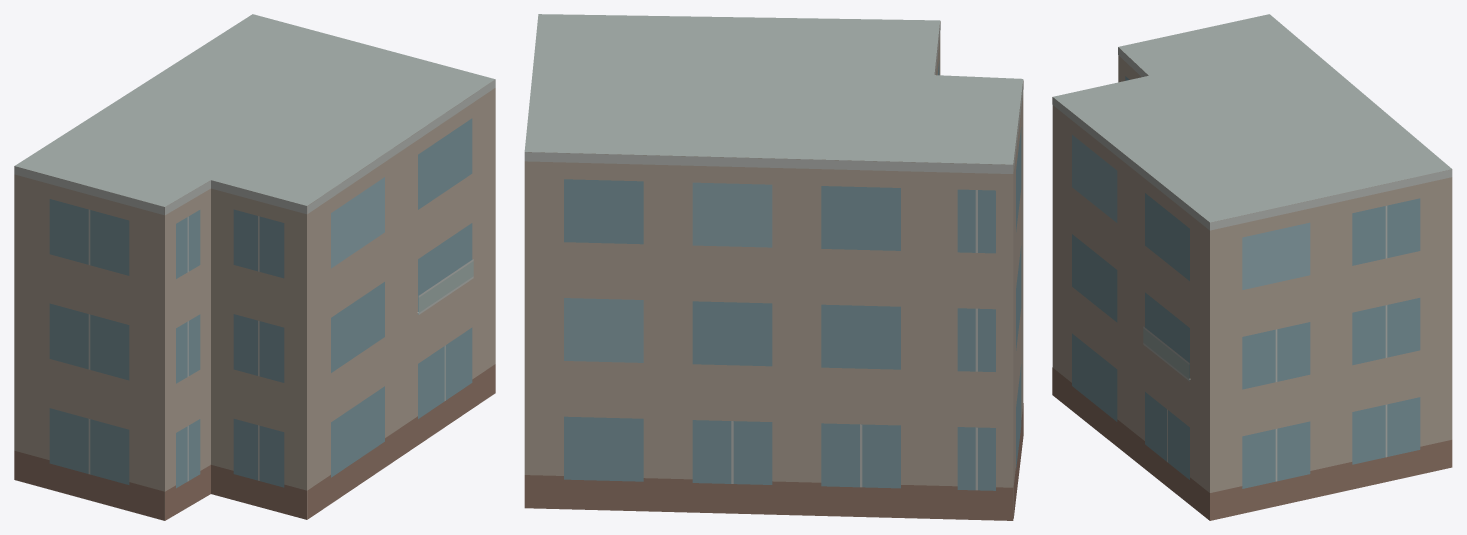
File: survey-upis-32691167.glb
The picture shows the model from 3 angles, left to right: view 1: azimuth 30°, elevation 25°; view 2: azimuth 150°, elevation 25°; view 3: azimuth 270°, elevation 25°; orthographic projection. The views are drawn at different scales.
Visible parts, largest first — view 1: survey-upis-32691167.tmp; view 2: survey-upis-32691167.tmp; view 3: survey-upis-32691167.tmp.
Part boxes in pixels (x1=…): survey-upis-32691167.tmp: x1=14, y1=14, x2=495, y2=520; survey-upis-32691167.tmp: x1=524, y1=14, x2=1023, y2=520; survey-upis-32691167.tmp: x1=1052, y1=14, x2=1452, y2=520.
Bounding box in the file's own units: 13.73 × 9.15 × 11.13.
